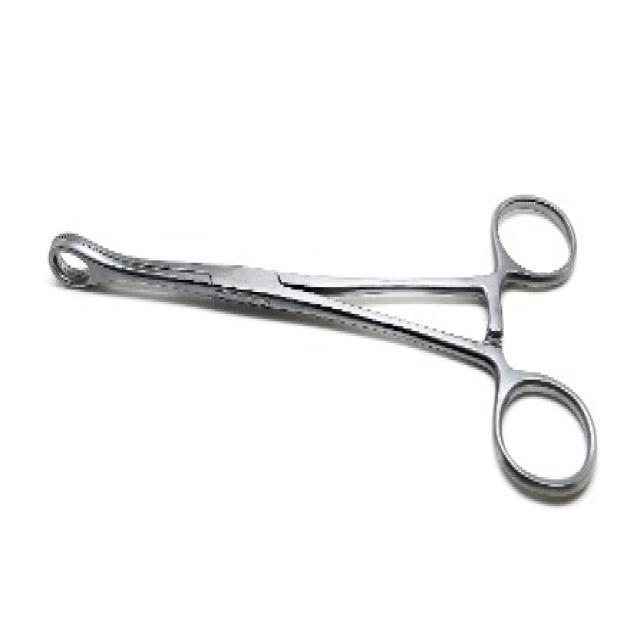Sponge Holding Forceps: (42, 190, 600, 522)
